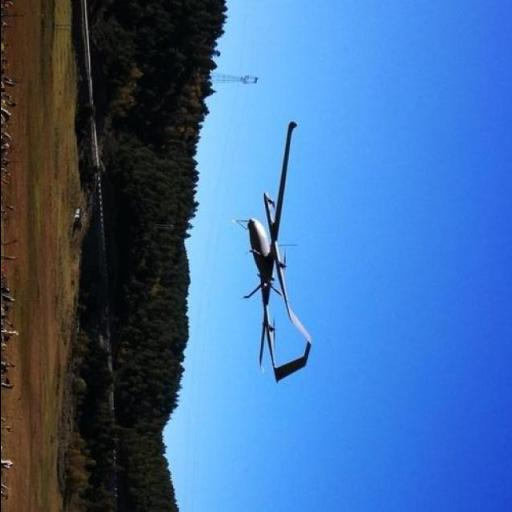uav: (238, 118, 320, 384)
